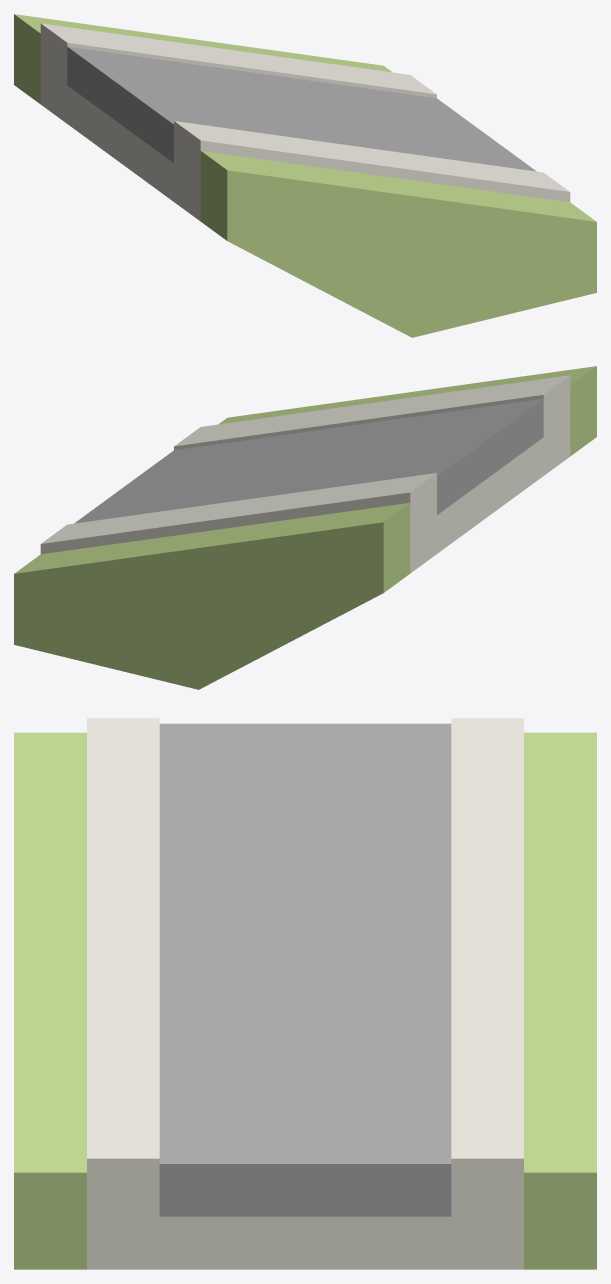
The model's file is road_tile_171.glb.
3 renders of one model, top to bottom at view 1: azimuth 30°, elevation 25°; view 2: azimuth 150°, elevation 25°; view 3: azimuth 270°, elevation 25°, orthographic. The views are drawn at different scales.
Parts seen in each view (by area): view 1: roadTile_171; view 2: roadTile_171; view 3: roadTile_171.
Boxes of the visible parts, x1,y1,x2,y2 form: roadTile_171: (14, 14, 596, 337); roadTile_171: (14, 366, 596, 689); roadTile_171: (14, 718, 596, 1269).
Size of the model in its own units: 3 by 1.73 by 3.
